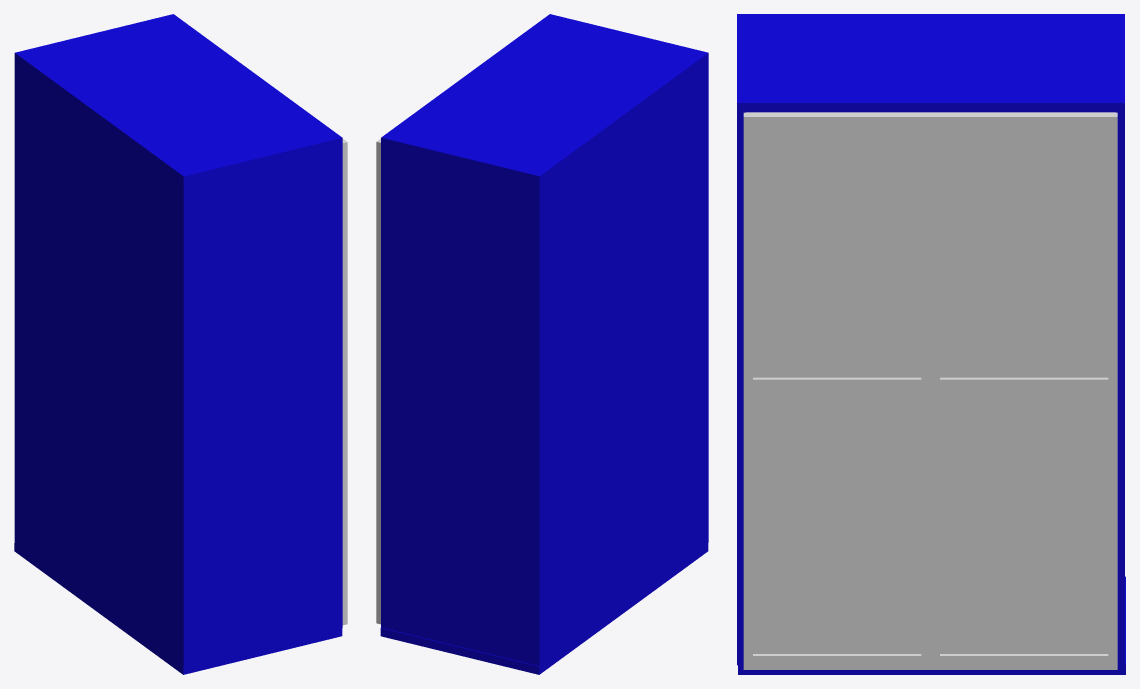
Rendered from weapons cabinet.fbx.
3 views of the same model, side by side, from view 1: azimuth 30°, elevation 25°; view 2: azimuth 150°, elevation 25°; view 3: azimuth 270°, elevation 25° (orthographic). The views are drawn at different scales.
Visible parts, largest first — view 1: Plane.004, Plane.005; view 2: Plane.004, Plane.007; view 3: Plane.007, Plane.005, Plane.004.
Boxes of the visible parts, bbox=[...] form: Plane.004: bbox=[14, 14, 342, 674]; Plane.005: bbox=[342, 139, 347, 625]; Plane.004: bbox=[380, 14, 708, 674]; Plane.007: bbox=[376, 138, 380, 624]; Plane.007: bbox=[930, 112, 1117, 669]; Plane.005: bbox=[743, 112, 930, 669]; Plane.004: bbox=[737, 14, 1125, 674].
Bounding box in the file's own units: 210 × 600 × 370.
